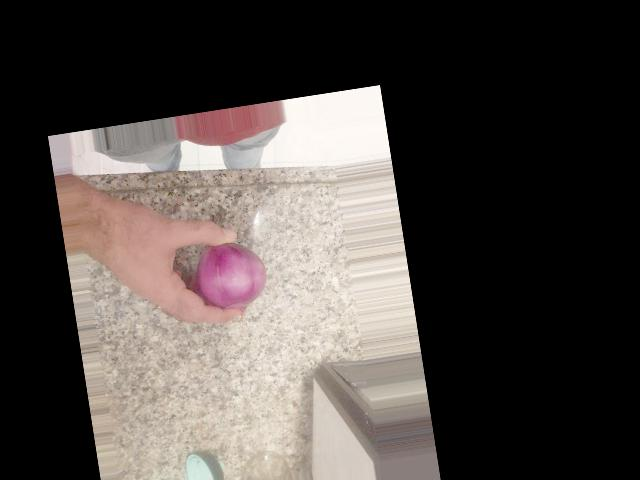onion: (192, 223, 275, 323)
